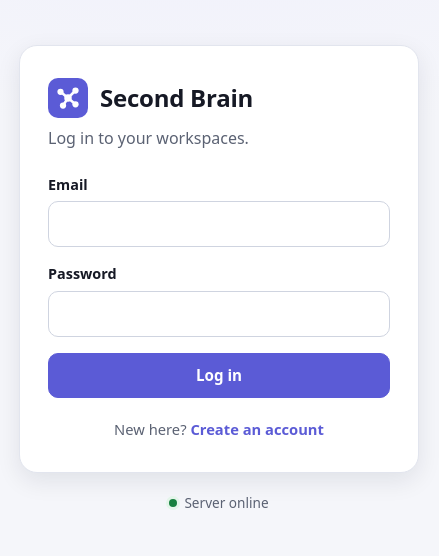
Test: AuthPage › says so when the email or password is wrong
The image size is (439, 556).
Type "me@example.com" into the field labelled "Email" at (219,224), box [48, 202, 390, 248]
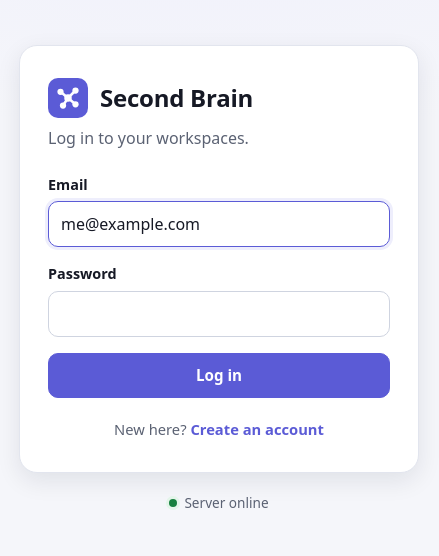
Type "wrong-password" into the password field labelled "Password" at (219,314), box [48, 291, 390, 337]
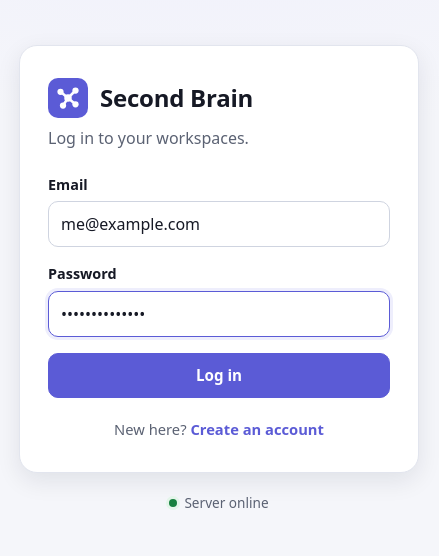
Click the button "Log in" at (219,376), box [48, 353, 390, 398]
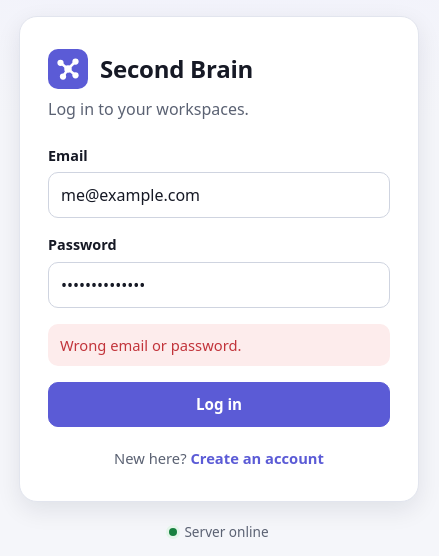
Result: the message "Wrong email or password." is shown at [48, 324, 390, 366]
